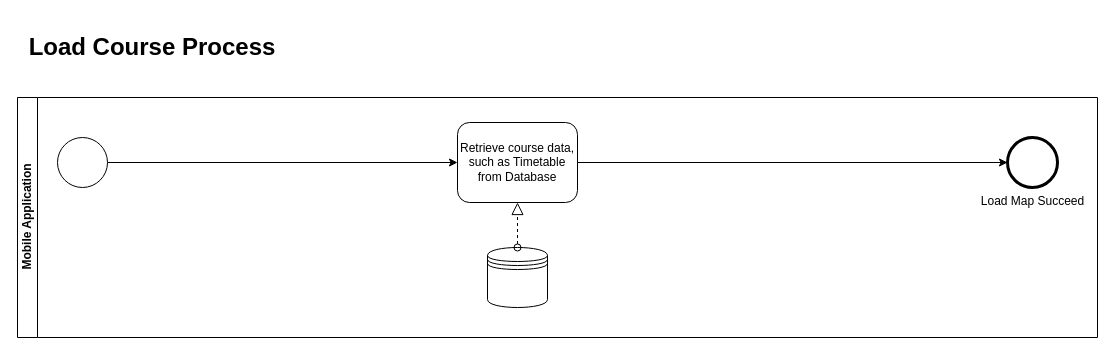
This 1115x355 diagram has some shape labels left out. Each missing label, with the centre of its shape:
SQLite: the point at 517,277
Start: the point at 82,162
